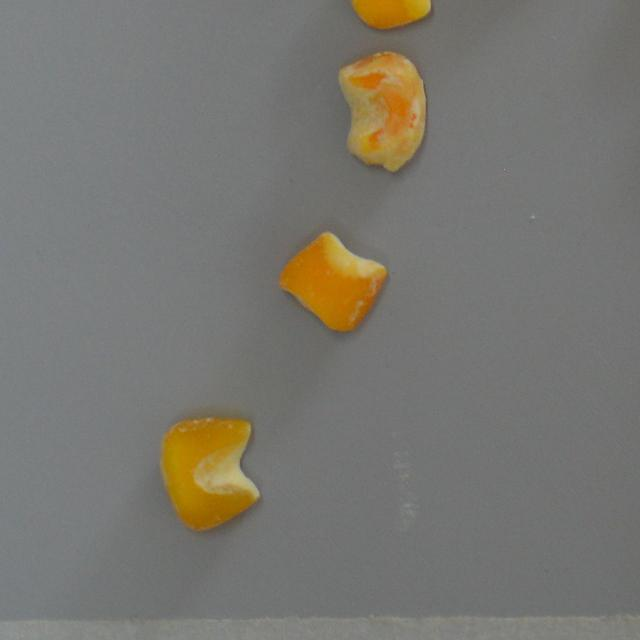pelicula: (158, 416, 258, 530), (278, 230, 386, 334), (336, 51, 428, 172), (344, 0, 432, 30)
